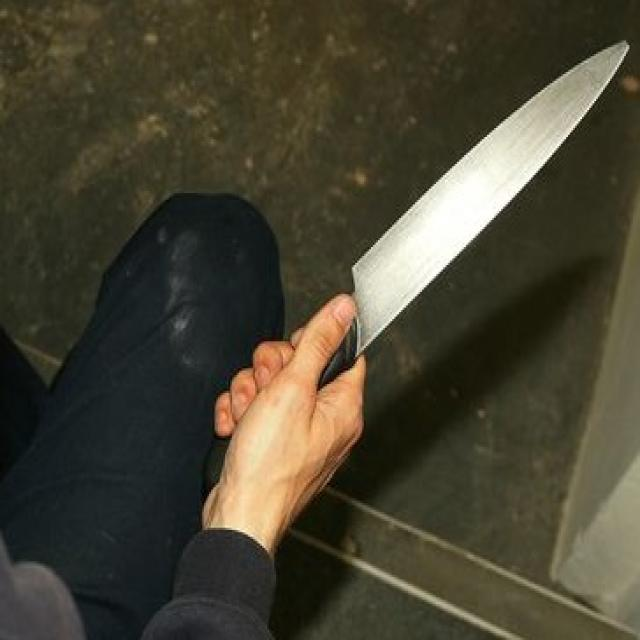knife: (200, 34, 637, 489)
